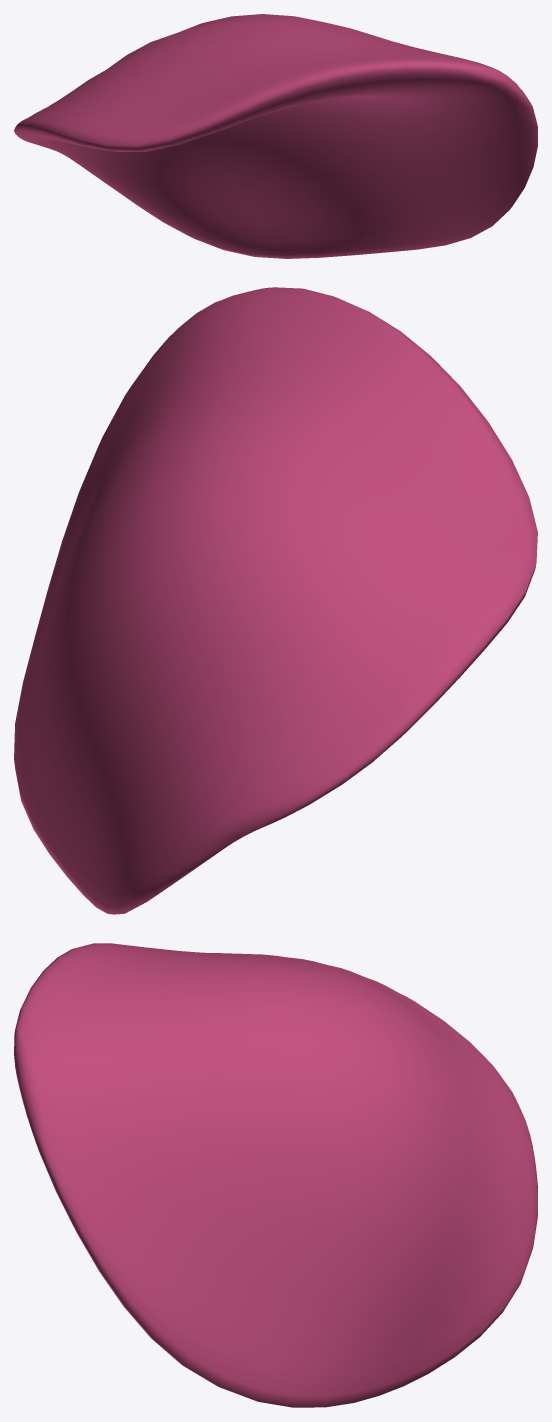
3 views of the same model, one above another, from view 1: azimuth 30°, elevation 25°; view 2: azimuth 150°, elevation 25°; view 3: azimuth 270°, elevation 25° (orthographic). The views are drawn at different scales.
Visible parts, largest first — view 1: 左侧臀大肌坐骨囊; view 2: 左侧臀大肌坐骨囊; view 3: 左侧臀大肌坐骨囊.
Part boxes in pixels (<box>): 左侧臀大肌坐骨囊: <box>14,14,537,258</box>; 左侧臀大肌坐骨囊: <box>14,287,537,914</box>; 左侧臀大肌坐骨囊: <box>14,943,537,1407</box>.
Bounding box in the file's own units: 0.0389 × 0.03 × 0.0376.
